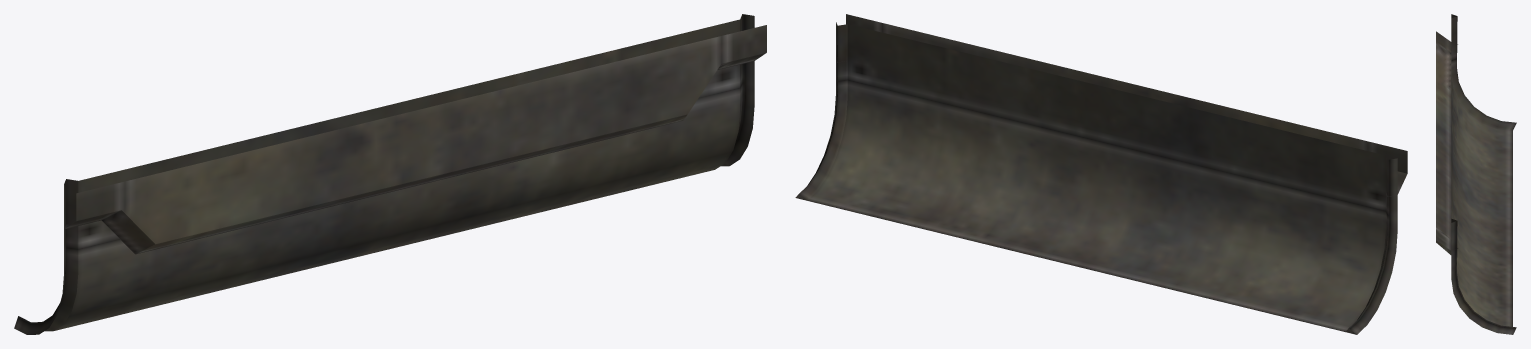
The model's file is welder_ceiling_short_pplant.dae.
3 views of the same model, side by side, from view 1: azimuth 30°, elevation 25°; view 2: azimuth 150°, elevation 25°; view 3: azimuth 270°, elevation 25° (orthographic). The views are drawn at different scales.
Visible parts, largest first — view 1: welder_ceiling_short_pplant; view 2: welder_ceiling_short_pplant; view 3: welder_ceiling_short_pplant.
Boxes of the visible parts, box(x1,y1,x2,y2) form: welder_ceiling_short_pplant: box(14, 14, 766, 334); welder_ceiling_short_pplant: box(795, 14, 1407, 334); welder_ceiling_short_pplant: box(1436, 14, 1516, 334).
Size of the model in its own units: 2 by 0.5 by 0.3267.
